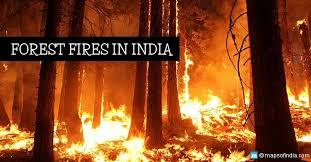fire: (0, 62, 251, 161), (284, 85, 311, 143)
